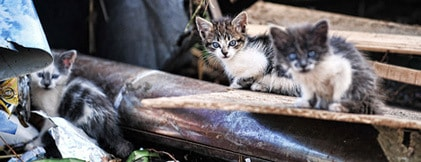cat: (16, 42, 141, 154), (261, 18, 389, 127), (184, 6, 288, 99)
